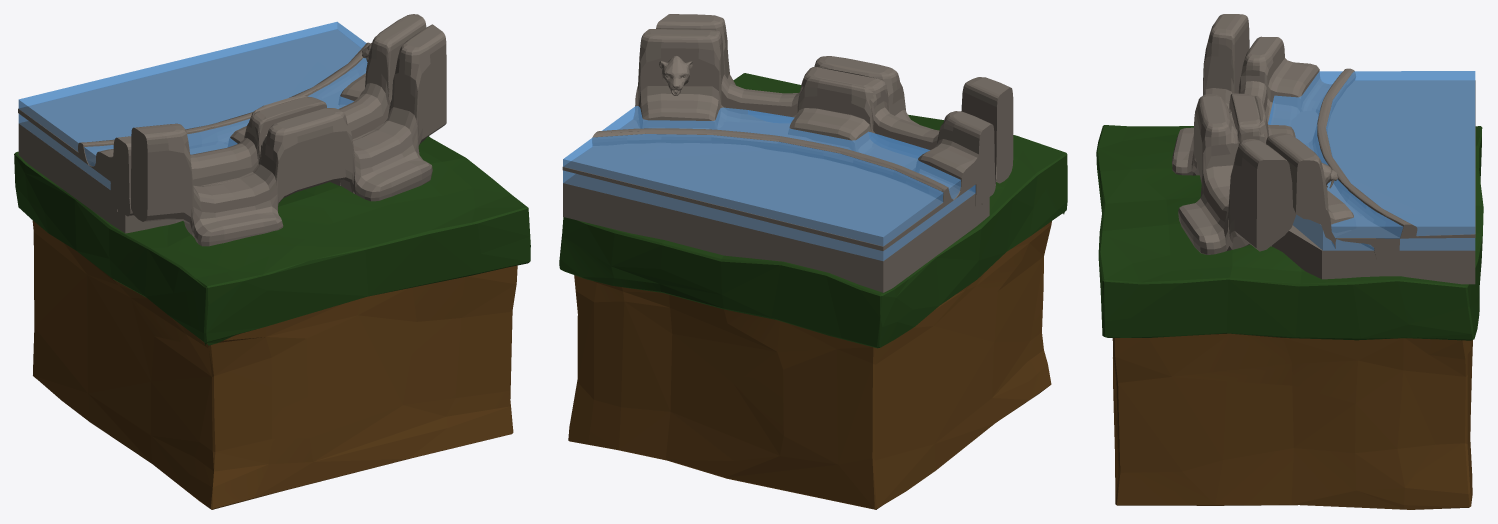
3 renders of one model, left to right at view 1: azimuth 30°, elevation 25°; view 2: azimuth 150°, elevation 25°; view 3: azimuth 270°, elevation 25°, orthographic.
Visible parts, largest first — view 1: M3; view 2: M3; view 3: M3.
Boxes of the visible parts, box(x1,y1,x2,y2) form: M3: box(14, 14, 530, 509); M3: box(559, 14, 1067, 509); M3: box(1096, 14, 1483, 509).
Bounding box in the file's own units: 1.07 × 1.09 × 1.09.
